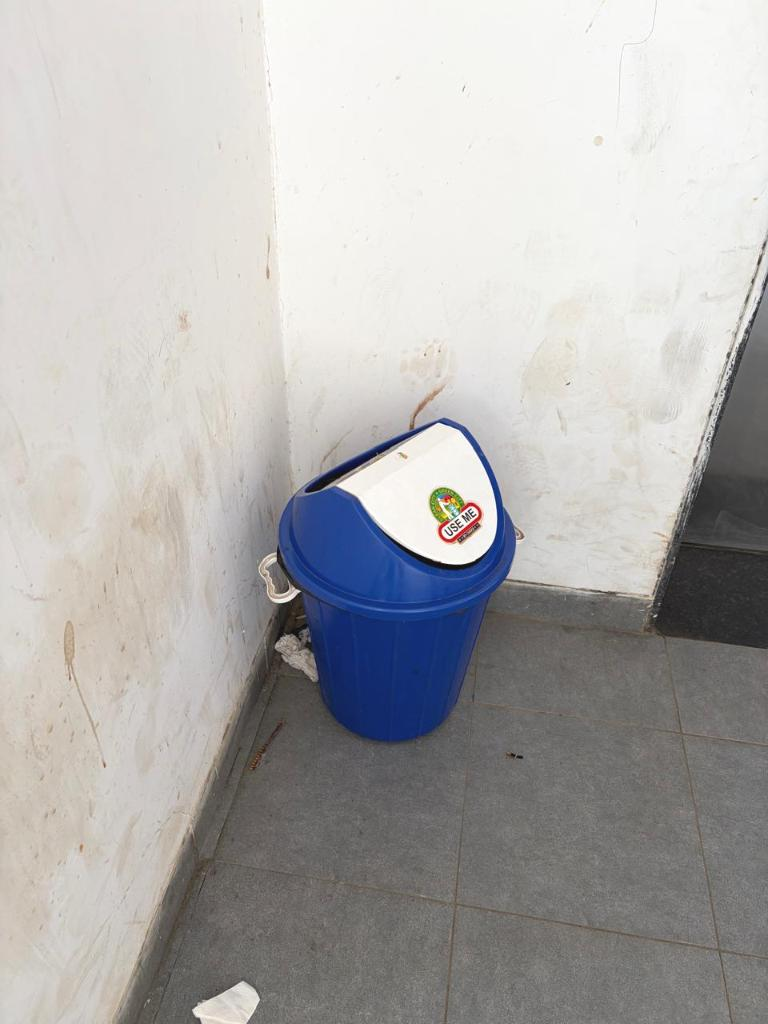dustbin: (243, 415, 526, 765)
